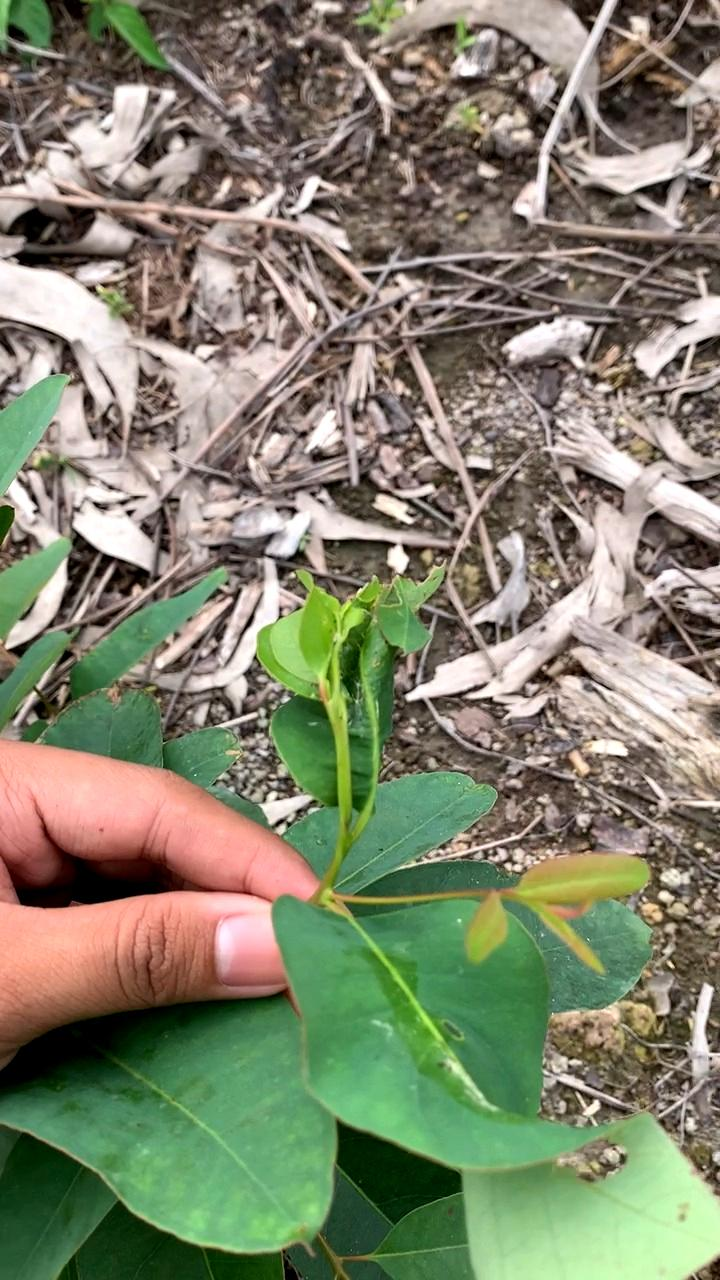Leaf Roller - Leaf: (255, 548, 441, 877)
